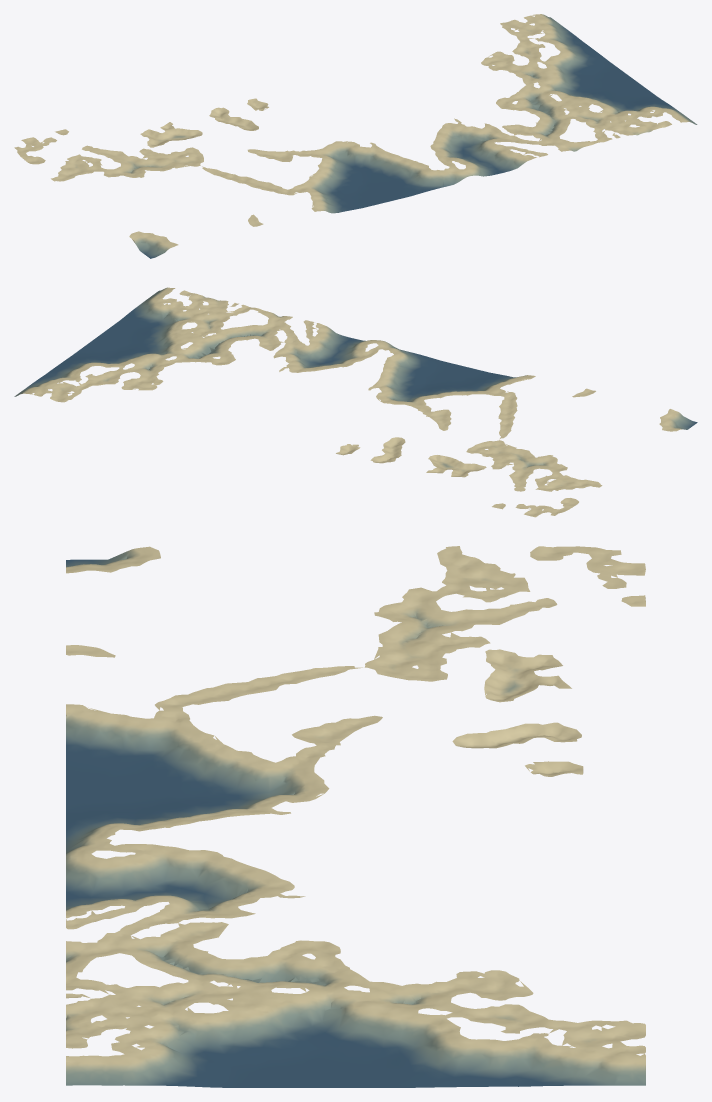
File: seabed.glb
3 renders of one model, top to bottom at view 1: azimuth 30°, elevation 25°; view 2: azimuth 150°, elevation 25°; view 3: azimuth 270°, elevation 25°, orthographic. The views are drawn at different scales.
Parts seen in each view (by area): view 1: BoardSeabed; view 2: BoardSeabed; view 3: BoardSeabed.
Part boxes in pixels (x1,y1,x2,y2): BoardSeabed: (14, 14, 697, 258); BoardSeabed: (14, 287, 697, 517); BoardSeabed: (66, 546, 645, 1087).
Bounding box in the file's own units: 128 × 1.8 × 59.63.
